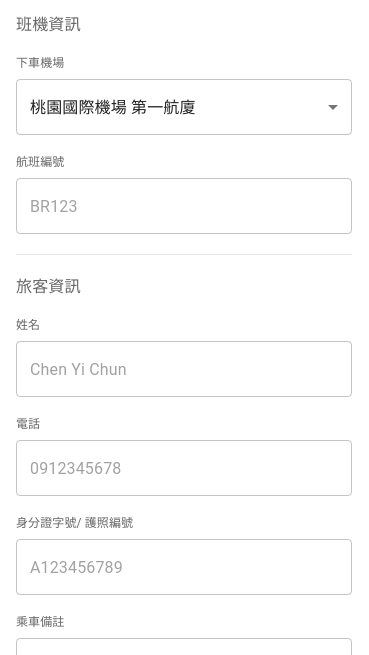
it: Form.Page component › Invalid Input › shows error message when phone is not valid
The width and height of the screenshot is (369, 655).
In the field labelled "電話": (184, 468) x1=16 y1=440 x2=352 y2=496, type "abc"
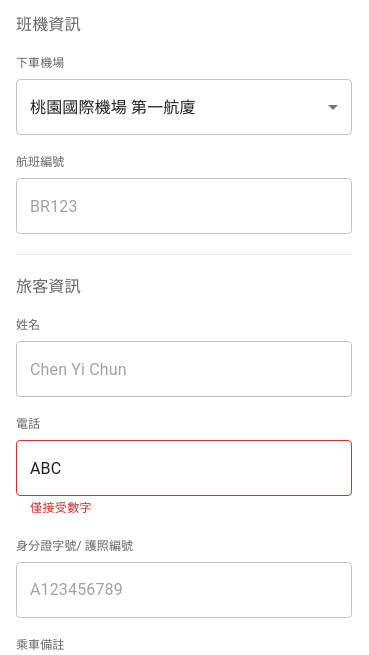
Check: the text "僅接受數字" is shown, box x1=30 y1=501 x2=92 y2=515
